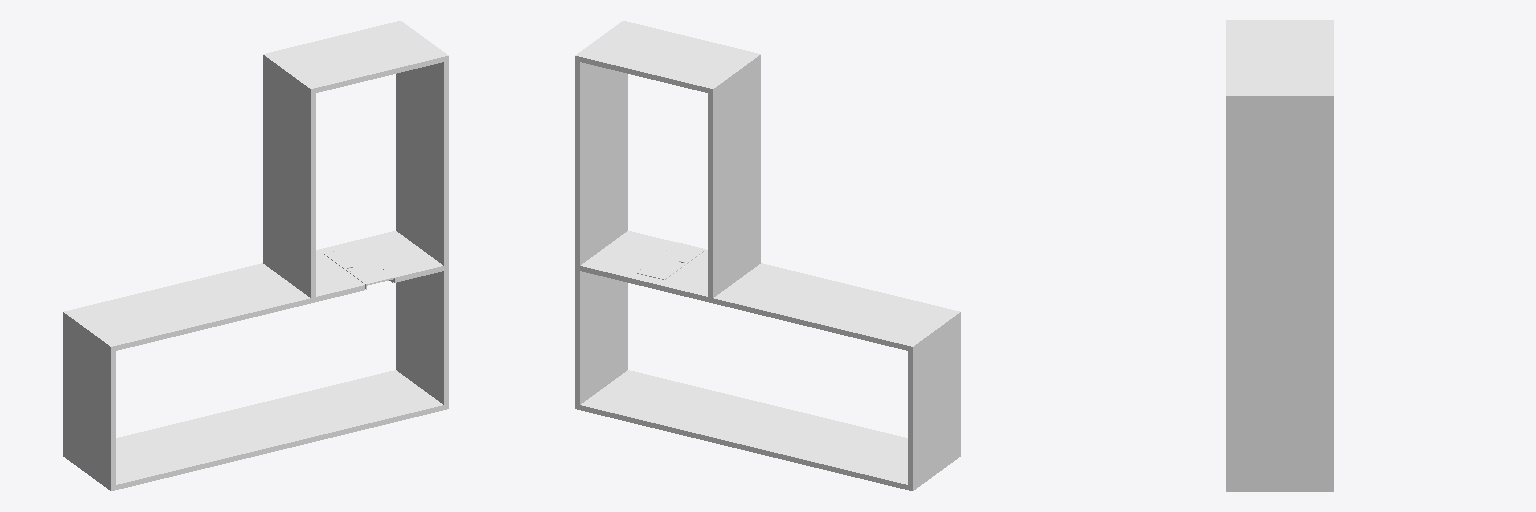
The robot description file, URDF, robot "room":
<?xml version="1.0" encoding="utf-8"?>
<!-- This URDF was automatically created by SolidWorks to URDF Exporter! Originally created by [author] ([email redacted]) 
     Commit Version: 1.5.1-0-g916b5db  Build Version: 1.5.7152.31018
     For more information, please see http://wiki.ros.org/sw_urdf_exporter -->
<robot
  name="room">
  <link
    name="room_link">
    <inertial>
      <origin
        xyz="-1.94822112824507 1.25276651029596 -2.90723055226451"
        rpy="0 0 0" />
      <mass
        value="16168.5958343016" />
      <inertia
        ixx="192364.151188655"
        ixy="-86.9106786109994"
        ixz="-65926.2854752906"
        iyy="374286.87183972"
        iyz="4.13676432645725"
        izz="198812.779610138" />
    </inertial>
    <visual>
      <origin
        xyz="0 0 0"
        rpy="0 0 0" />
      <geometry>
        <mesh
          filename="package://innfos_control/gazebo_control/meshes/room_link.STL" />
      </geometry>
      <material
        name="">
        <color
          rgba="1 1 1 1" />
      </material>
    </visual>
    <collision>
      <origin
        xyz="0 0 0"
        rpy="0 0 0" />
      <geometry>
        <mesh
          filename="package://innfos_control/gazebo_control/meshes/room_link.STL" />
      </geometry>
    </collision>
  </link>
  <link
    name="door_link">
    <inertial>
      <origin
        xyz="-0.42652009925419 0.0173510276999185 -0.00416820084636216"
        rpy="0 0 0" />
      <mass
        value="48.5407301232143" />
      <inertia
        ixx="18.8036984212311"
        ixy="-1.00953737656781E-06"
        ixz="0.000260681814812196"
        iyy="21.6159277116009"
        iyz="0.00128136921662646"
        izz="2.83093866997336" />
    </inertial>
    <visual>
      <origin
        xyz="0 0 0"
        rpy="0 0 0" />
      <geometry>
        <mesh
          filename="package://innfos_control/gazebo_control/meshes/door_link.STL" />
      </geometry>
      <material
        name="">
        <color
          rgba="1 1 1 1" />
      </material>
    </visual>
    <collision>
      <origin
        xyz="0 0 0"
        rpy="0 0 0" />
      <geometry>
        <mesh
          filename="package://innfos_control/gazebo_control/meshes/door_link.STL" />
      </geometry>
    </collision>
  </link>
  <joint
    name="door_joint"
    type="revolute">
    <origin
      xyz="0.427 1.0825 -2.9185"
      rpy="-1.5708 0 0" />
    <parent
      link="room_link" />
    <child
      link="door_link" />
    <axis
      xyz="0 0 -1" />
    <limit
      lower="0"
      upper="3.14"
      effort="0"
      velocity="0" />
  </joint>
  <link
    name="hand_link">
    <inertial>
      <origin
        xyz="-0.0371421570958161 0.00469105182371954 -6.3504757008559E-14"
        rpy="0 0 0" />
      <mass
        value="0.18156036538561" />
      <inertia
        ixx="0.000416731657366205"
        ixy="3.9668813712661E-05"
        ixz="1.94744644096067E-12"
        iyy="0.000822697682888218"
        iyz="-4.12520851710876E-12"
        izz="0.000445503015103821" />
    </inertial>
    <visual>
      <origin
        xyz="0 0 0"
        rpy="0 0 0" />
      <geometry>
        <mesh
          filename="package://innfos_control/gazebo_control/meshes/hand_link.STL" />
      </geometry>
      <material
        name="">
        <color
          rgba="0.752941176470588 0.752941176470588 0.752941176470588 1" />
      </material>
    </visual>
    <collision>
      <origin
        xyz="0 0 0"
        rpy="0 0 0" />
      <geometry>
        <mesh
          filename="package://innfos_control/gazebo_control/meshes/hand_link.STL" />
      </geometry>
    </collision>
  </link>
  <joint
    name="hand_joint"
    type="revolute">
    <origin
      xyz="-0.782 0.0175 -0.0425"
      rpy="1.5708 0 -3.1416" />
    <parent
      link="door_link" />
    <child
      link="hand_link" />
    <axis
      xyz="0 0 -1" />
    <limit
      lower="0"
      upper="3.14"
      effort="0"
      velocity="0" />
  </joint>
</robot>

--- What the picture shows (computed from the rendered views, not written in the file) ---
3 views of the same robot in one strip: view 1: azimuth 30°, elevation 25°; view 2: azimuth 150°, elevation 25°; view 3: azimuth 270°, elevation 25° (orthographic).
Robot: room — 3 links, 2 joints (2 revolute); root link room_link; default pose: all joints at 0.
Visible links, largest first — view 1: room_link, door_link; view 2: room_link, door_link; view 3: room_link.
Boxes of the visible links, left/top/right/bottom form: room_link: left=63, top=21, right=448, bottom=490; door_link: left=324, top=247, right=393, bottom=285; room_link: left=575, top=21, right=960, bottom=490; door_link: left=637, top=242, right=705, bottom=279; room_link: left=1226, top=20, right=1333, bottom=491.
Size in the robot's own frame: 10.15 by 2.5 by 10.15 metres.
Meshes: 3 distinct files referenced, 3 mesh visuals loaded (3 binary STL).